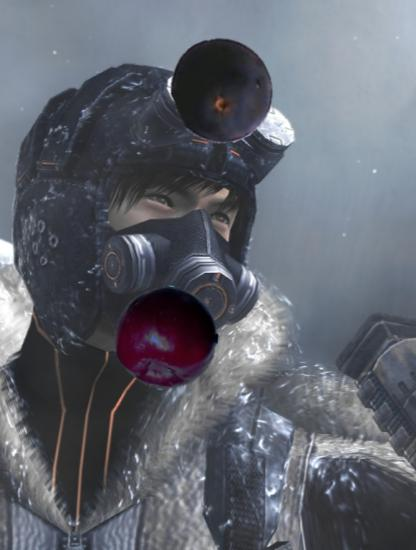Grape: (169, 37, 276, 144)
Plum: (113, 285, 219, 391)
